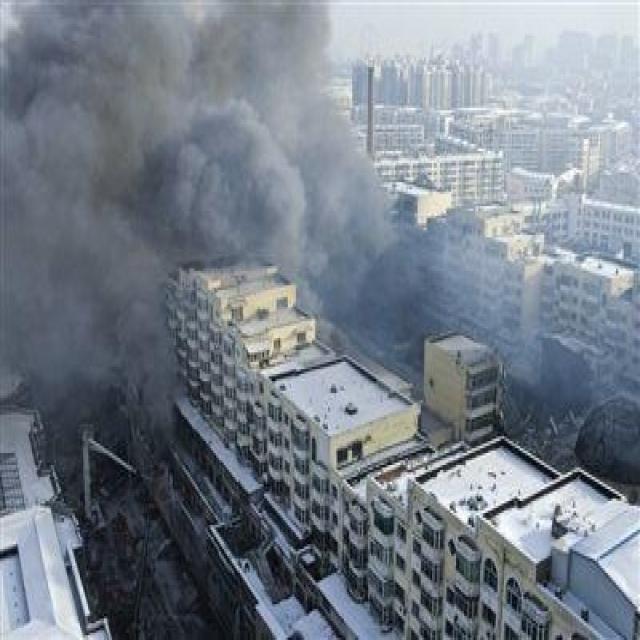Smoke: (146, 0, 640, 456), (0, 0, 179, 489)
